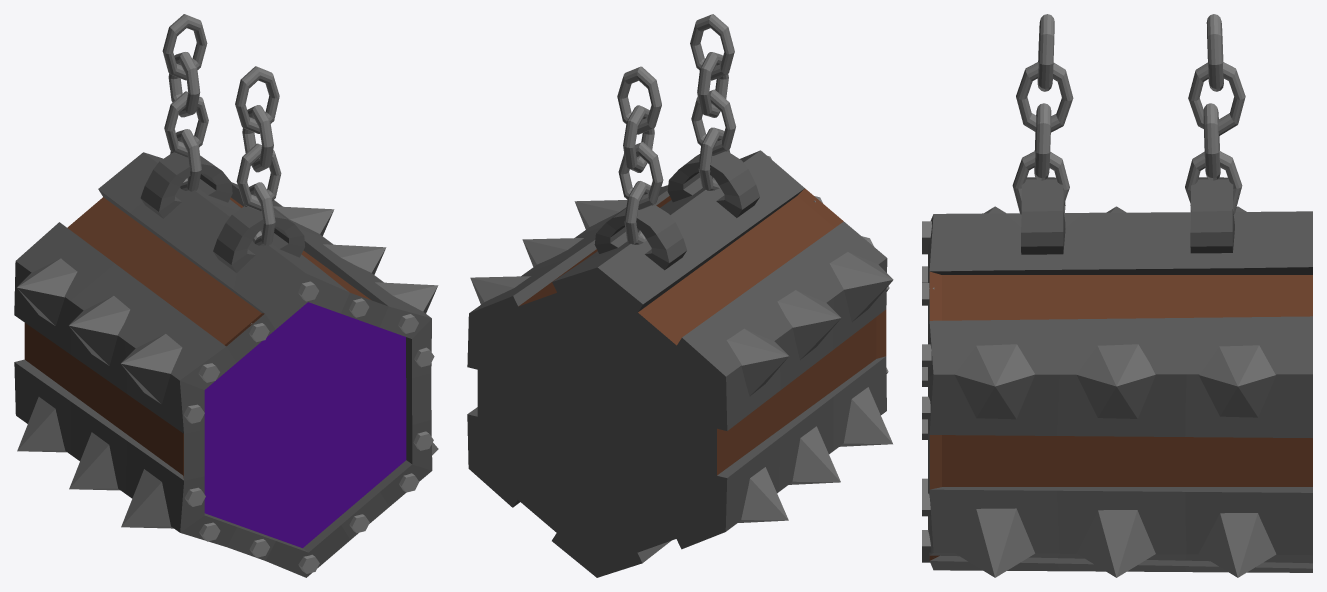
The model's file is UI_Monsterdeck.fbx.
3 renders of one model, left to right at view 1: azimuth 30°, elevation 25°; view 2: azimuth 150°, elevation 25°; view 3: azimuth 270°, elevation 25°, orthographic. The views are drawn at different scales.
Parts seen in each view (by area): view 1: Cone.006; view 2: Cone.006; view 3: Cone.006.
Part boxes in pixels (x1,y1,x2,y2): Cone.006: (14,14,438,577); Cone.006: (467,14,893,577); Cone.006: (922,14,1312,577).
Size of the model in its own units: 366 by 525 by 333.
